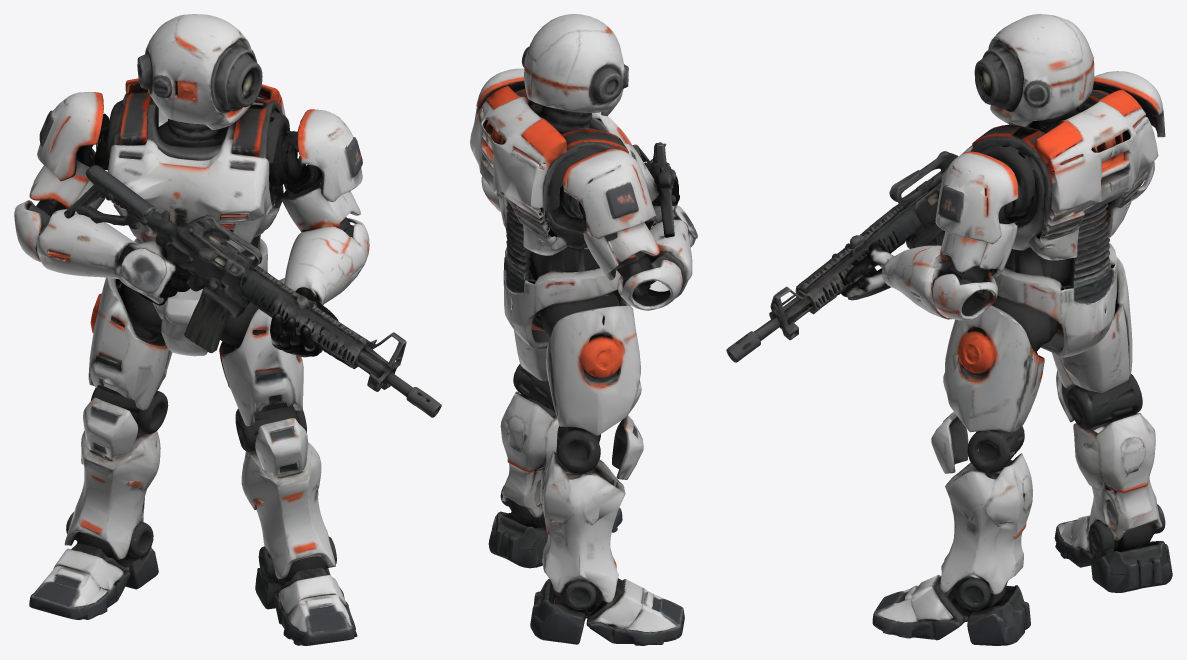
File: detail_1.glb
3 renders of one model, left to right at view 1: azimuth 30°, elevation 25°; view 2: azimuth 150°, elevation 25°; view 3: azimuth 270°, elevation 25°, orthographic. The views are drawn at different scales.
Bounding box in the file's own units: 0.4878 × 1 × 0.7004.
1 material, 1 textured.
